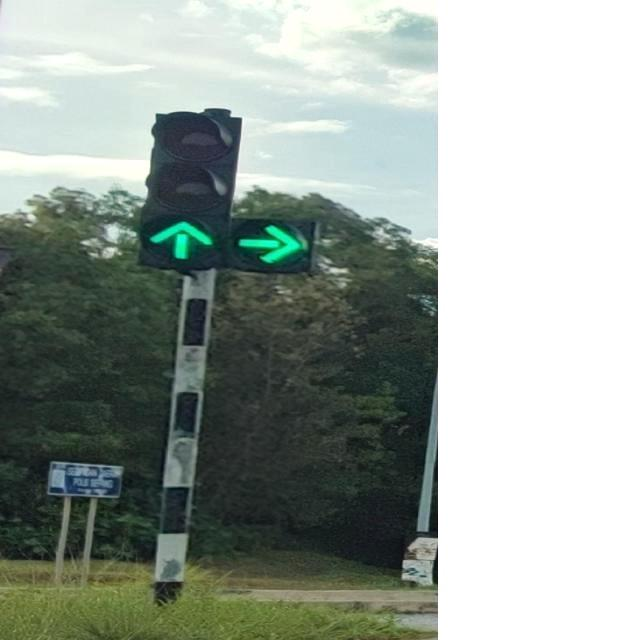Green: (138, 110, 242, 268), (228, 114, 318, 273)
